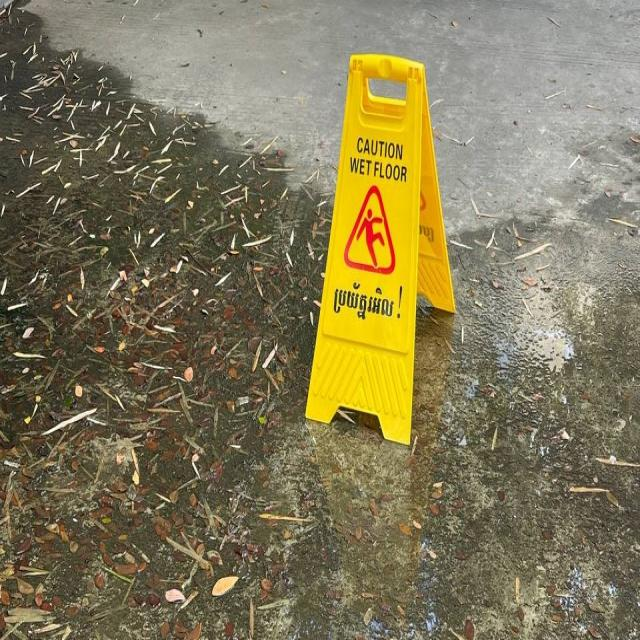Yolov11_80vkh: (328, 275, 407, 331)
